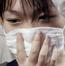with_mask: (2, 1, 65, 66)
